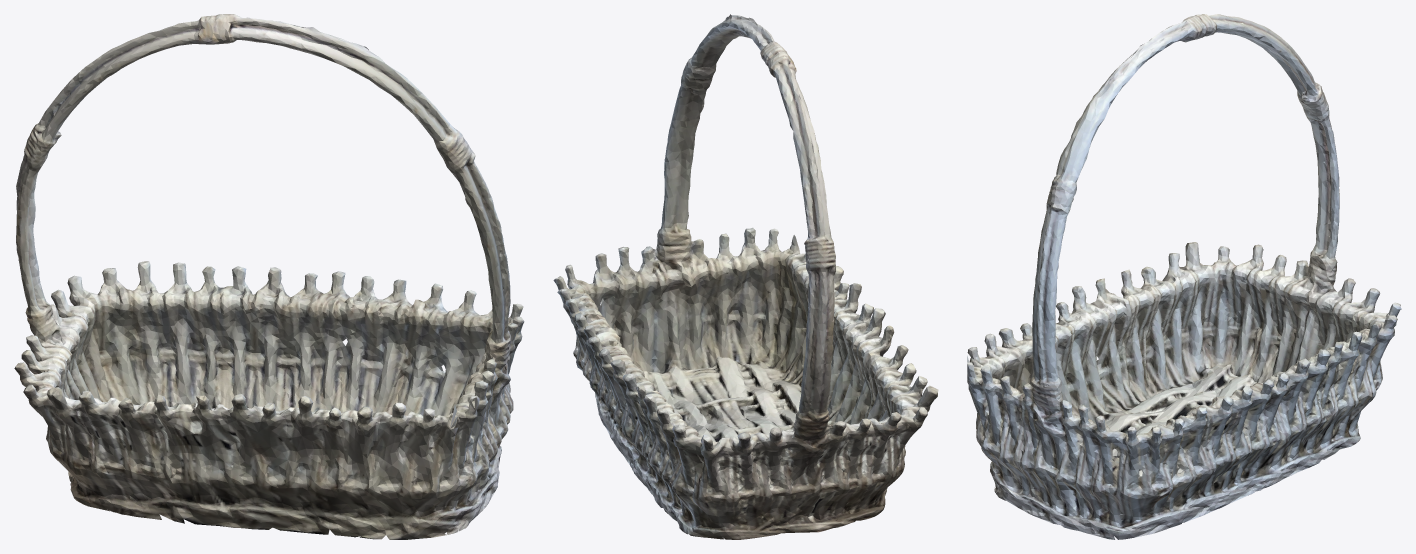
The model's file is baskets.glb.
3 renders of one model, left to right at view 1: azimuth 30°, elevation 25°; view 2: azimuth 150°, elevation 25°; view 3: azimuth 270°, elevation 25°, orthographic. The views are drawn at different scales.
Size of the model in its own units: 0.3371 by 0.3383 by 0.3154.
1 material, 1 textured.
